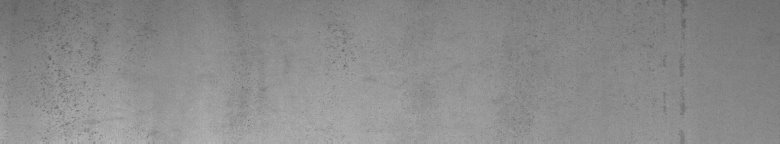ib: (31, 13, 109, 135)
